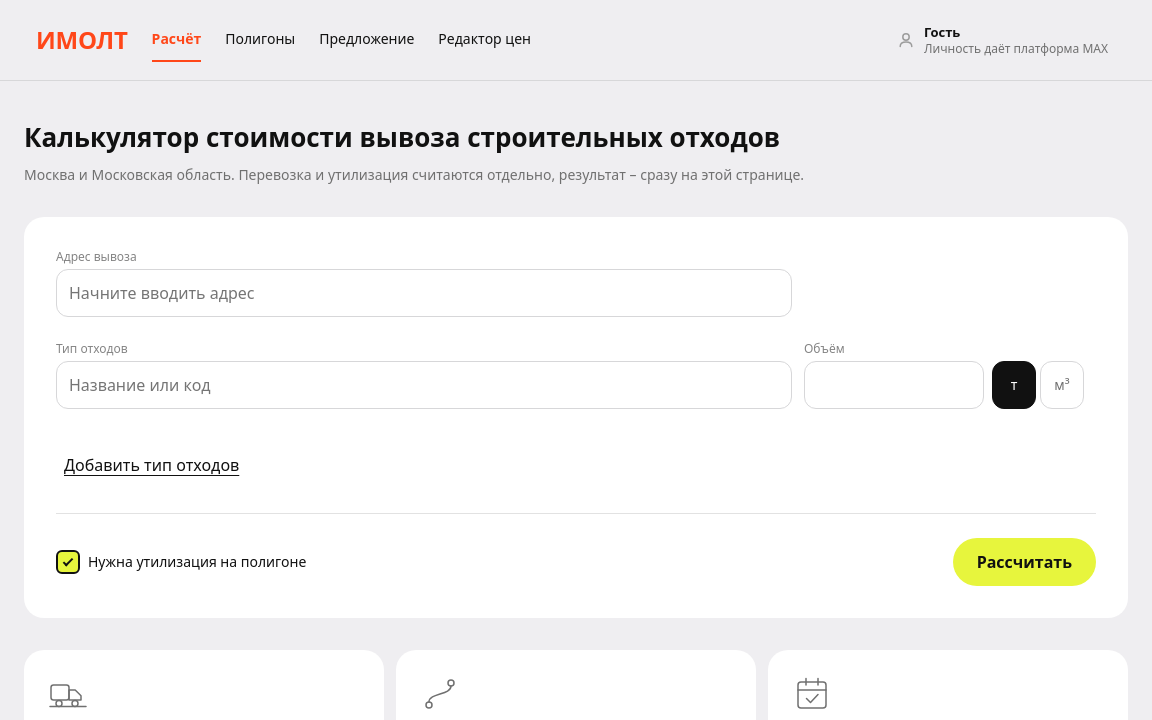
Scenario: закрытый список типов отходов на широком экране › подставляет выбранную запись справочника
Type "лом" into the dropdown labelled "Тип отходов" at (424,385), box [56,361,792,409]
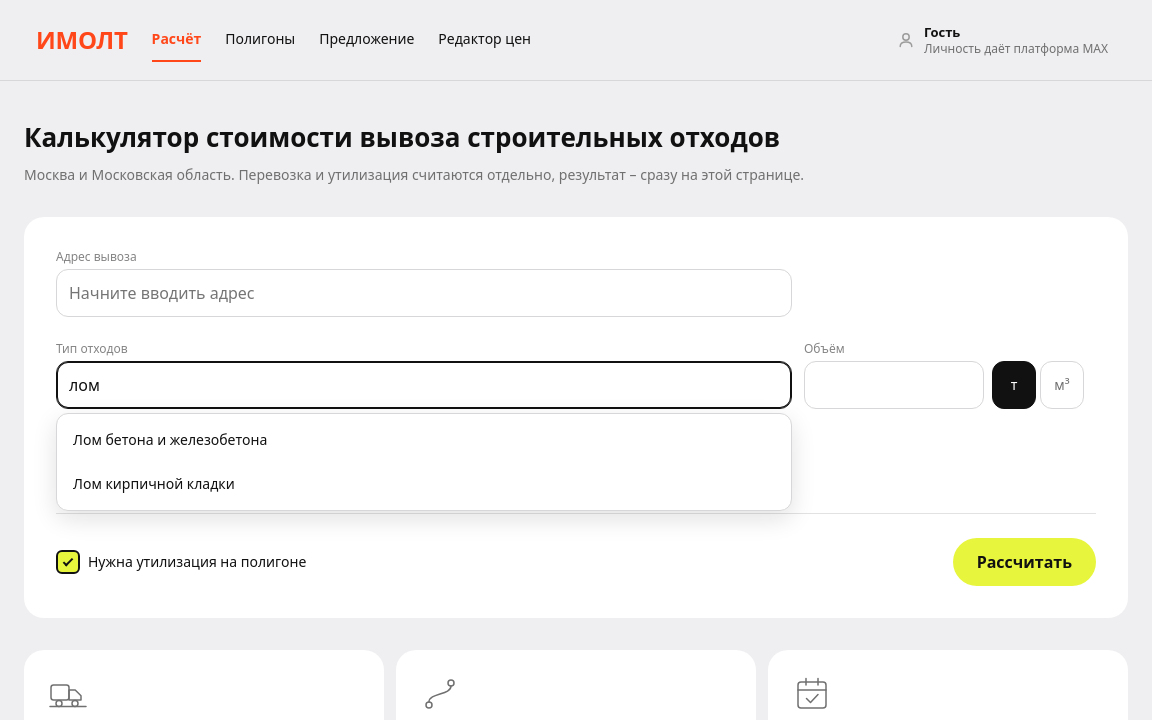
Click the option "Лом бетона и железобетона" at (170,440), box [73,430,267,449]
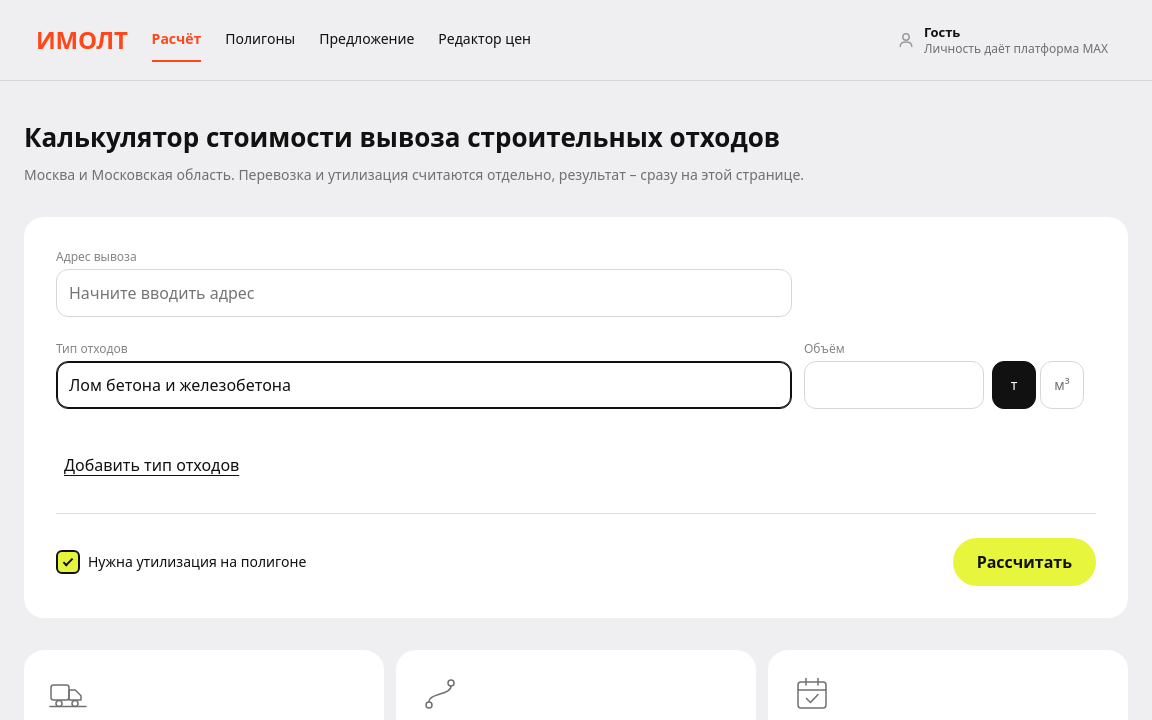
Check: the dropdown labelled "Тип отходов" holds "Лом бетона и железобетона", box [56,361,792,409]
